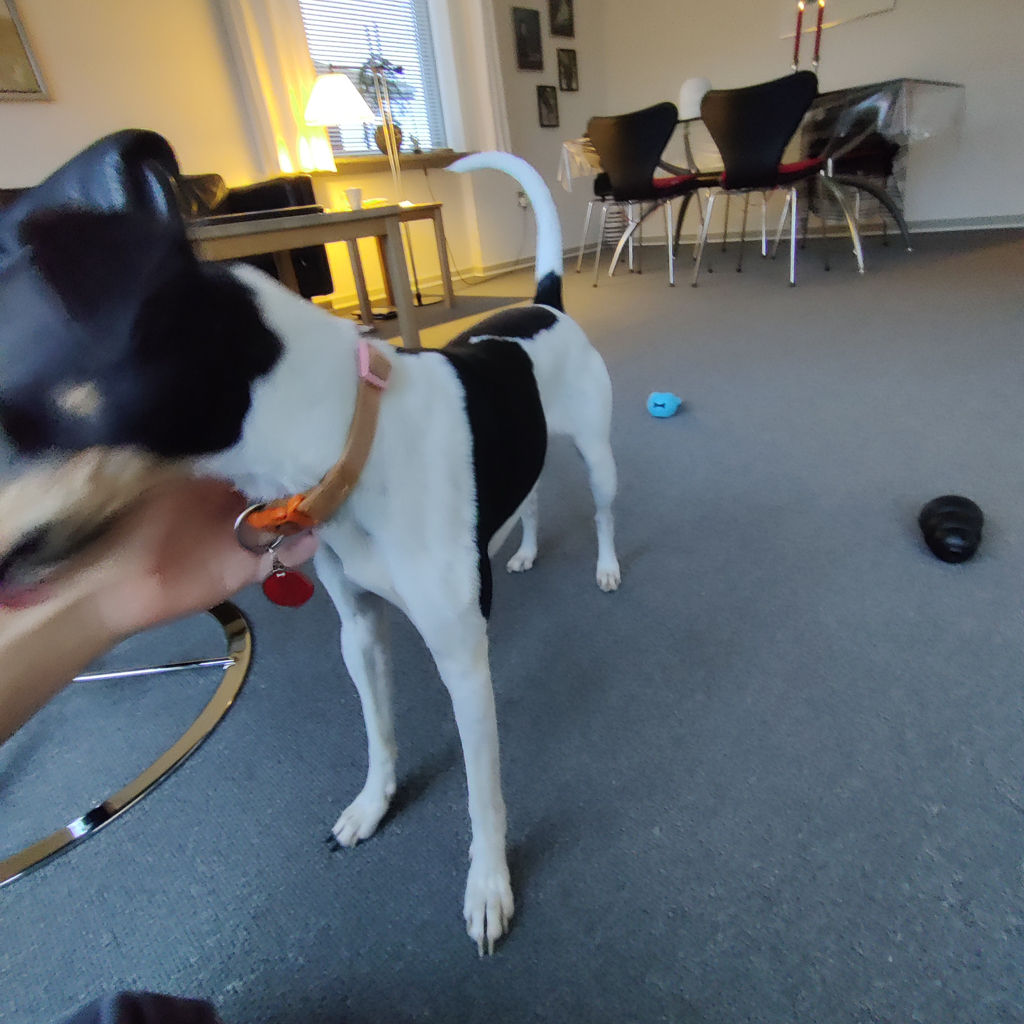Dog: (0, 140, 714, 964)
Humanoid: (0, 442, 354, 1024)
